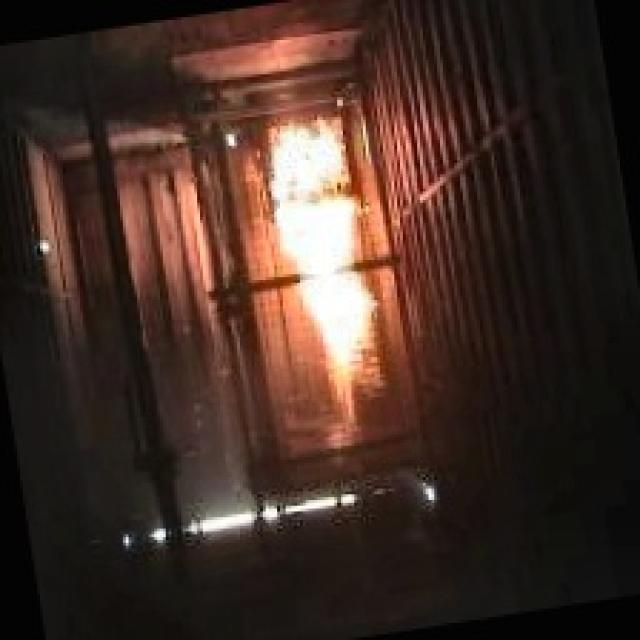fire: (255, 126, 414, 406)
